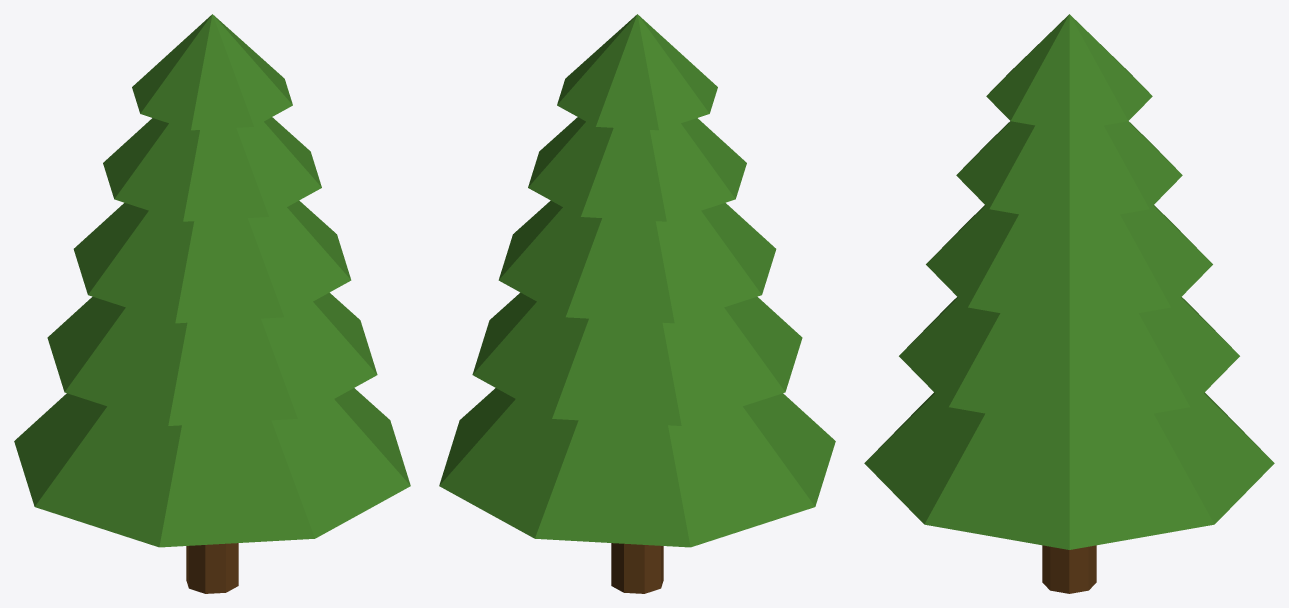
The model's file is SM_tree_01.fbx.
3 views of the same model, side by side, from view 1: azimuth 30°, elevation 25°; view 2: azimuth 150°, elevation 25°; view 3: azimuth 270°, elevation 25° (orthographic).
Visible parts, largest first — view 1: SM_tree_01; view 2: SM_tree_01; view 3: SM_tree_01.
Boxes of the visible parts, box(x1,y1,x2,y2) form: SM_tree_01: box(14, 14, 410, 593); SM_tree_01: box(439, 14, 835, 593); SM_tree_01: box(864, 14, 1274, 593).
Bounding box in the file's own units: 753 × 1151 × 753.
